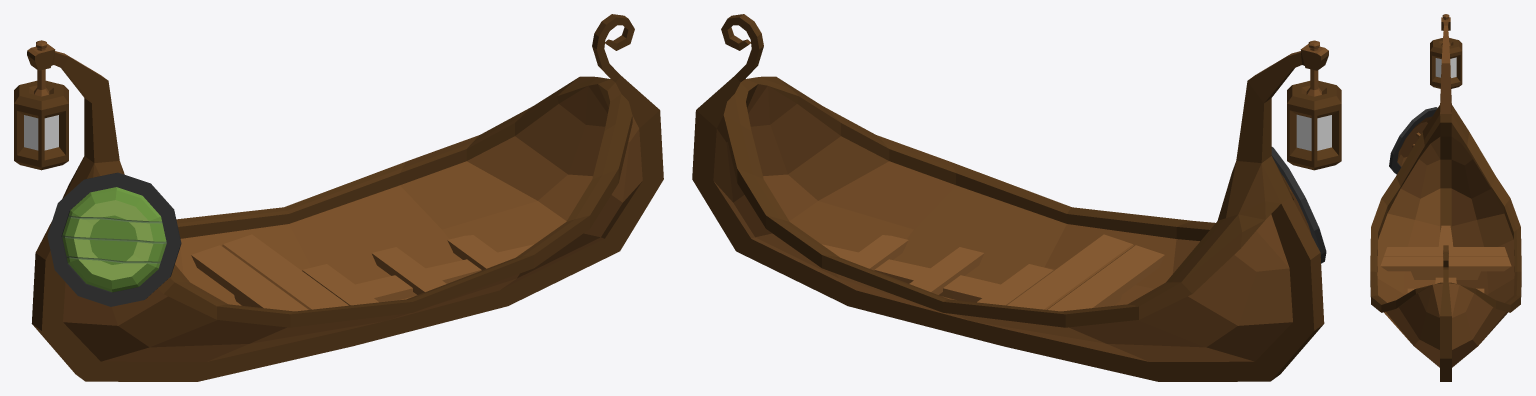
File: D_Rowboat_Green.fbx
The picture shows the model from 3 angles, left to right: view 1: azimuth 30°, elevation 25°; view 2: azimuth 150°, elevation 25°; view 3: azimuth 270°, elevation 25°; orthographic projection. The views are drawn at different scales.
Parts seen in each view (by area): view 1: D_Rowboat_Green; view 2: D_Rowboat_Green; view 3: D_Rowboat_Green.
Part boxes in pixels (bbox=[...]): D_Rowboat_Green: bbox=[14, 14, 663, 381]; D_Rowboat_Green: bbox=[692, 14, 1341, 381]; D_Rowboat_Green: bbox=[1370, 14, 1521, 381].
Size of the model in its own units: 439 by 244 by 152.
